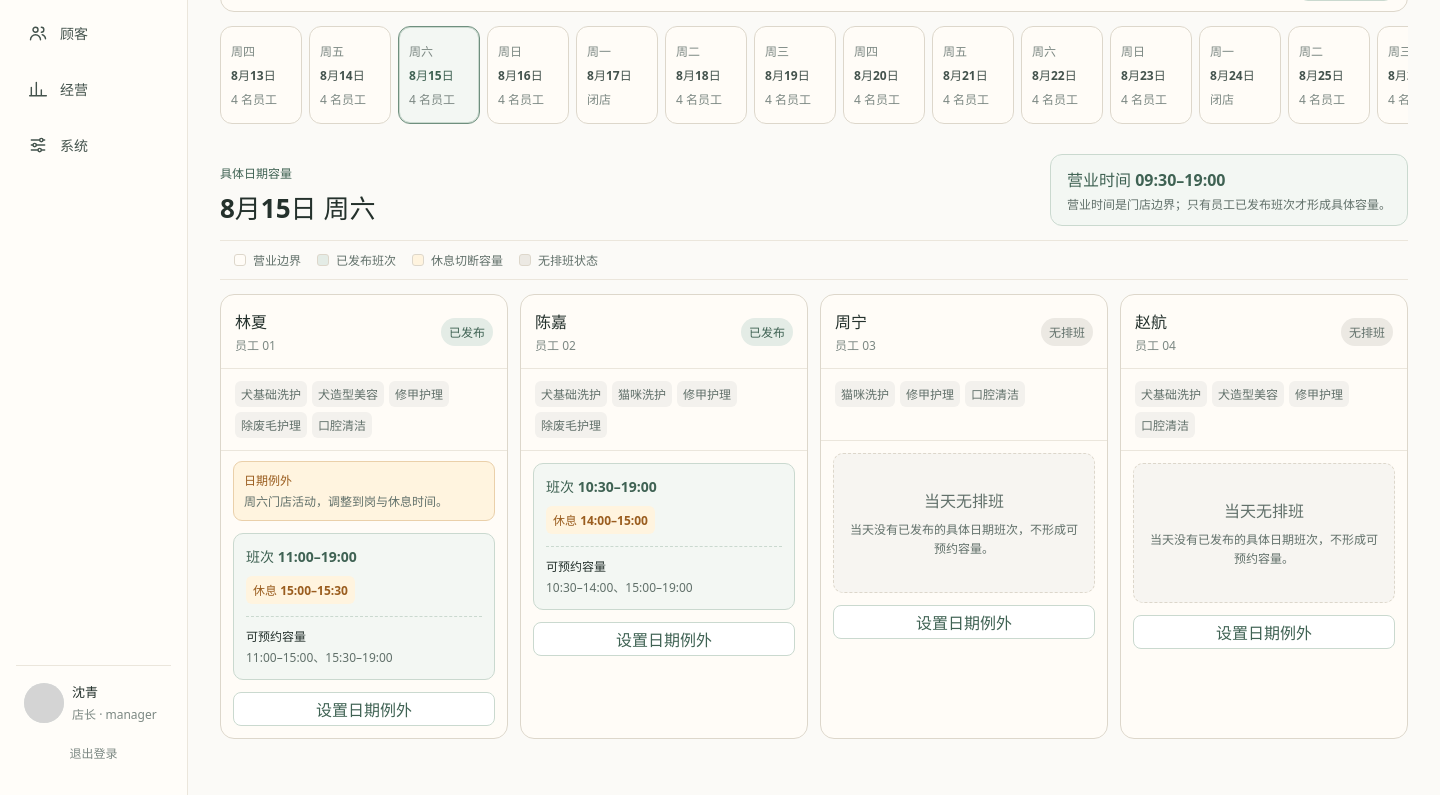
MG-09 已发布排班页面 › 可在已发布排班上保存调班、加班或休息日期例外并刷新容量
(page scrolled)
Click the button with aria-label "设置林夏8月15日日期例外" at (364,709), box [233,692,495,726]
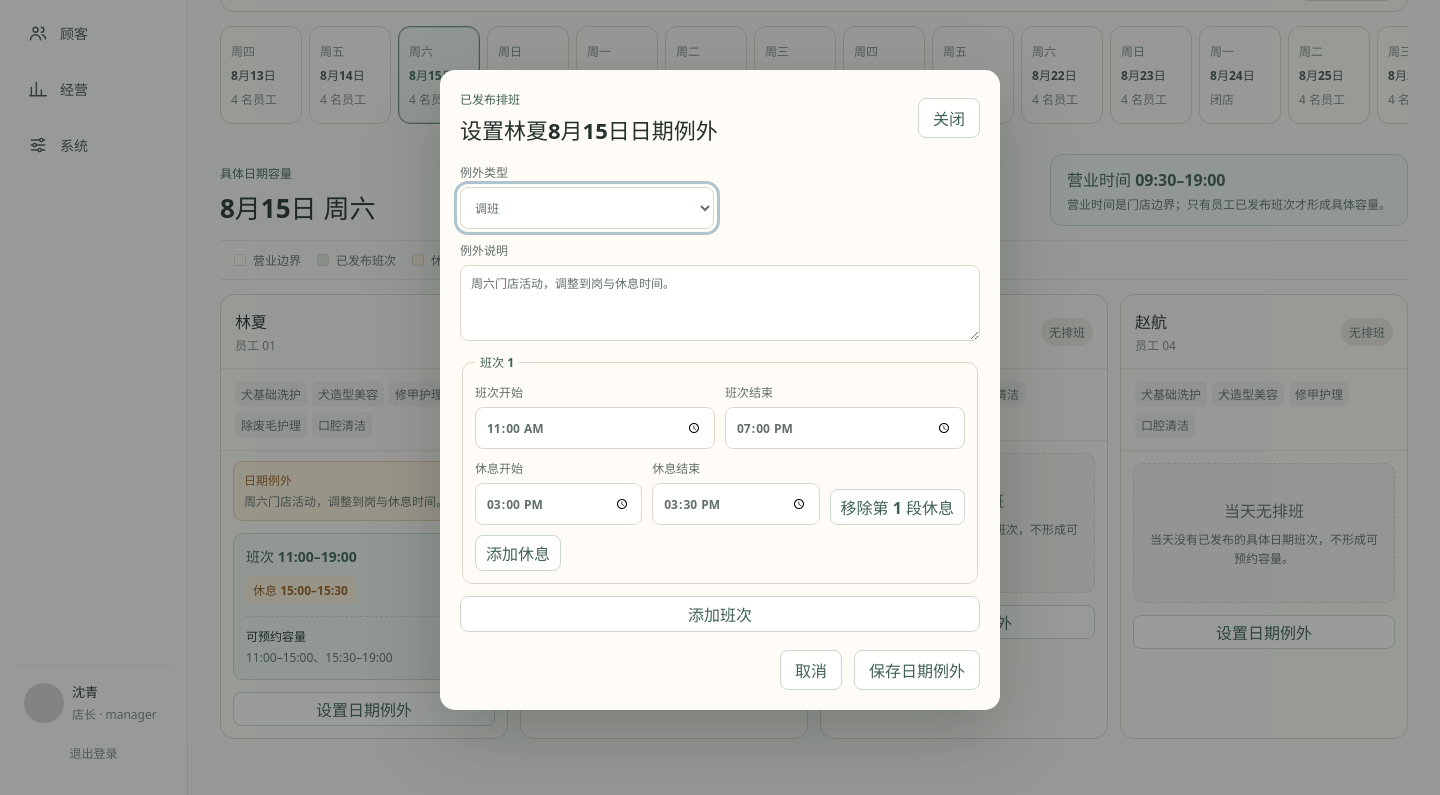
Select "临时休息" in the dropdown labelled "例外类型" at (587,208), box [460,187,714,229]
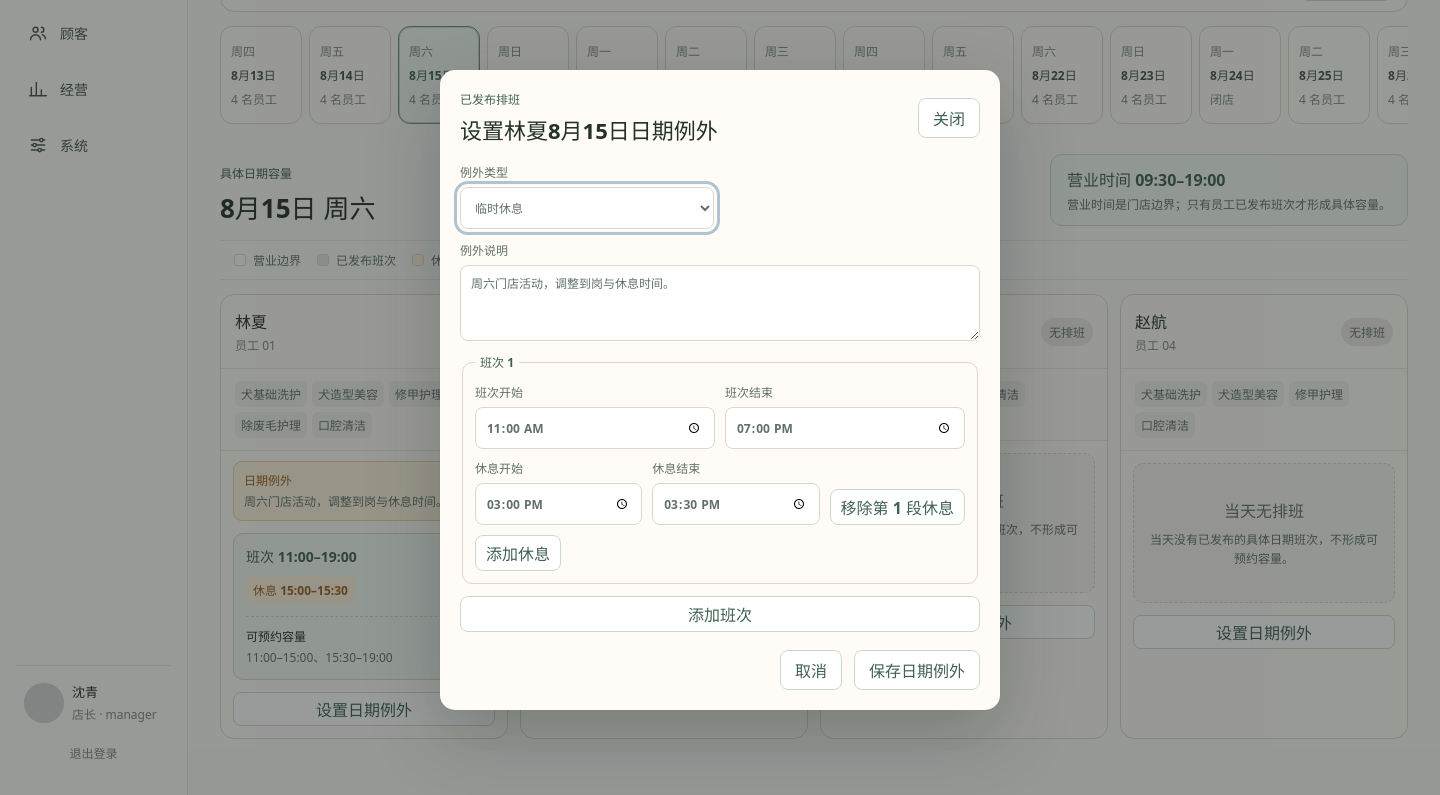
Replace the text in the text box labelled "例外说明" with "活动日延长休息" at (720,303), box [460,265,980,341]
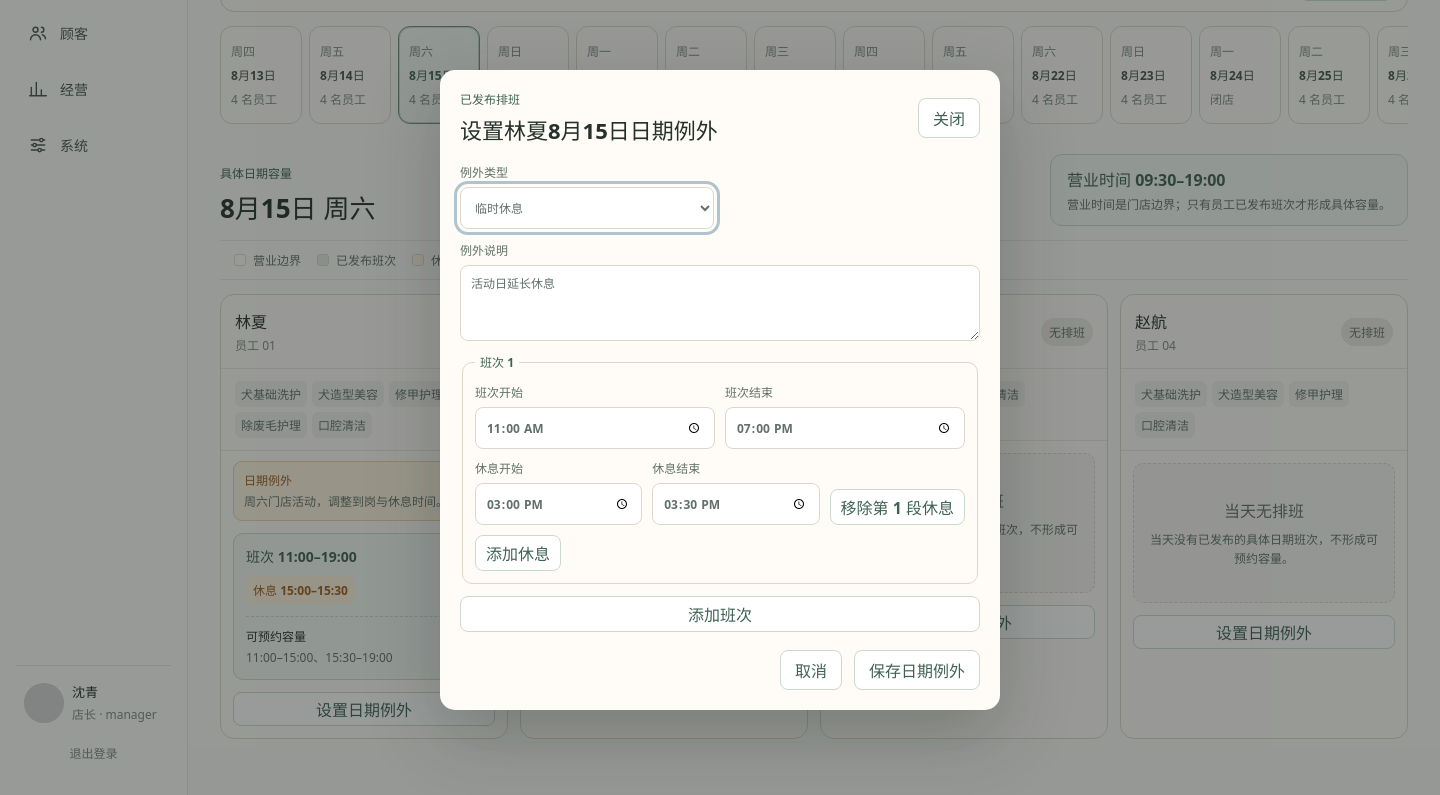
Replace the text in the time field labelled "休息结束" with "16:00" at (736,504), box [652,483,820,525]
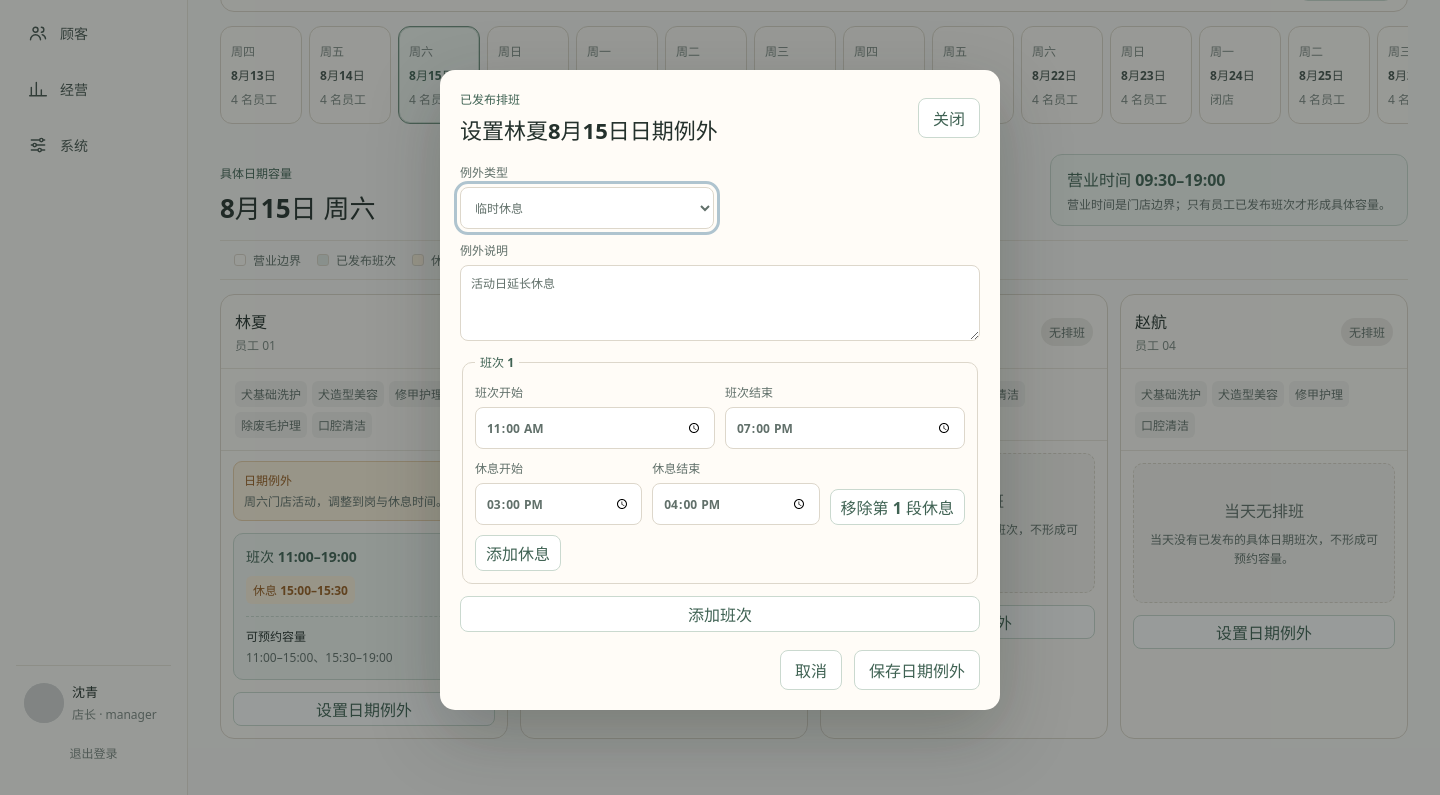
Click the button "保存日期例外" at (917,670), box [854,650,980,690]
(page scrolled)
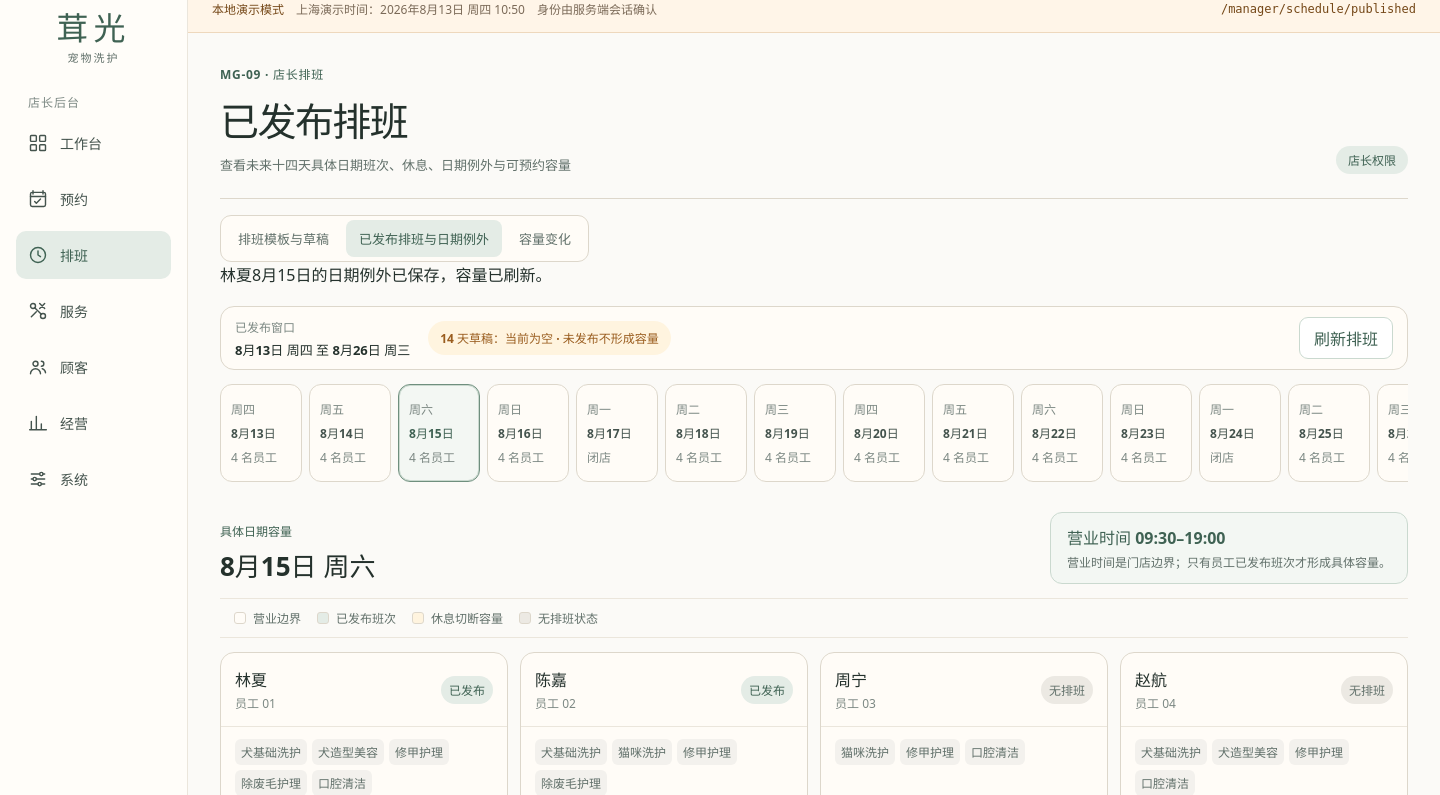
Now the text "林夏8月15日的日期例外已保存，容量已刷新。" is shown, box [220,264,552,286]
